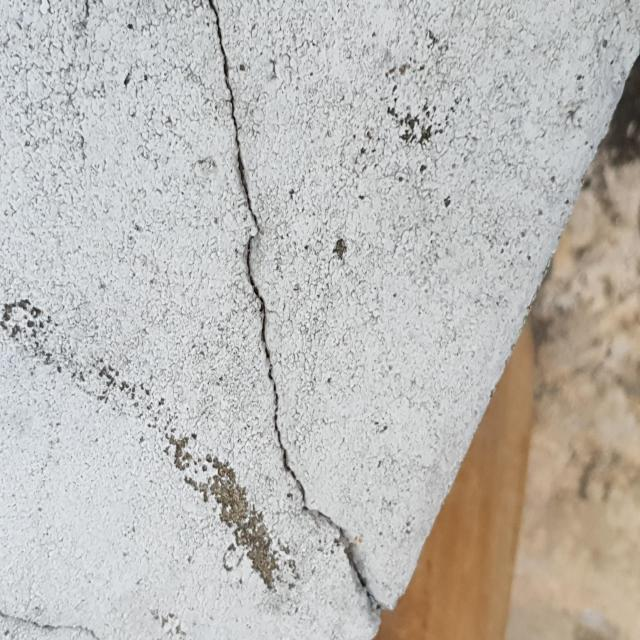SurfaceCrack: (1, 1, 450, 640)
